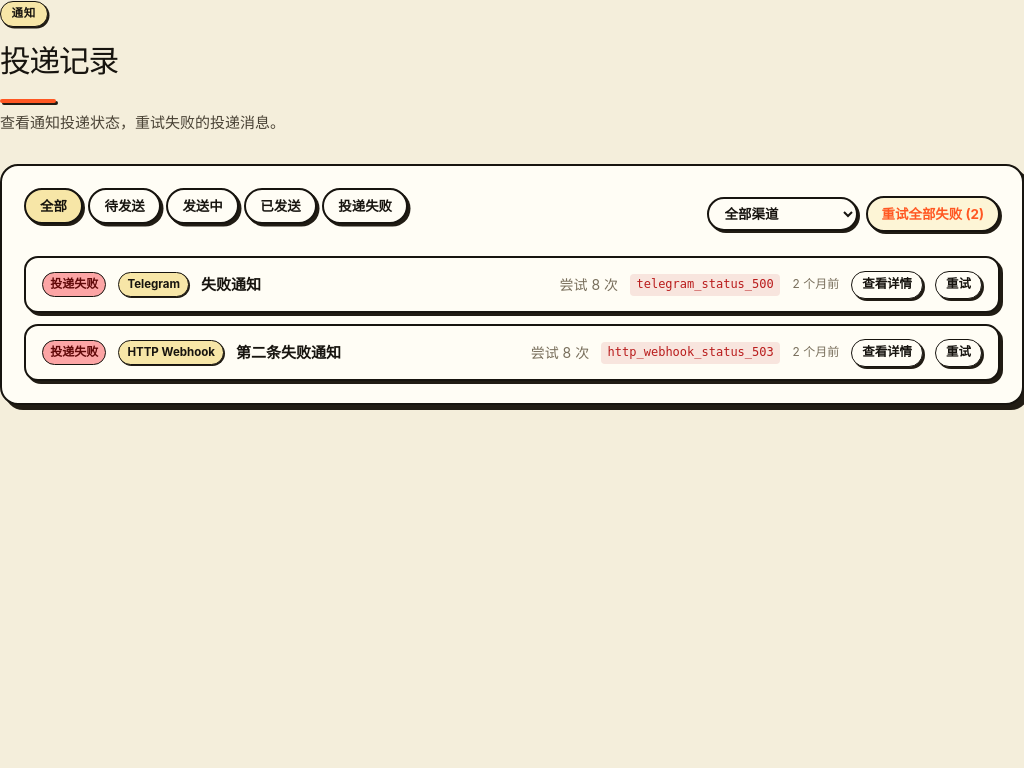
Test case: OutboxPage › 使用独立详情按钮，避免列表项与重试按钮嵌套交互
Click the button with aria-label "查看投递详情：失败通知". click: (887, 285)
box: [851,271,923,299]
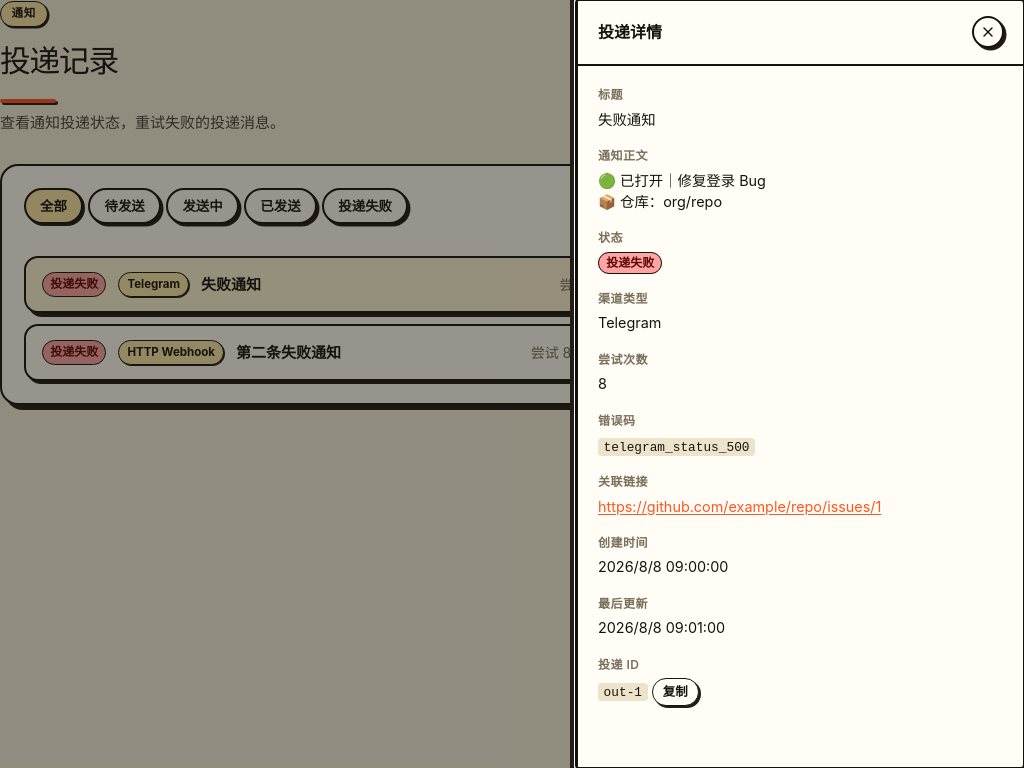
Expected: the dialog "投递详情" is shown, [576,0,1023,767]
